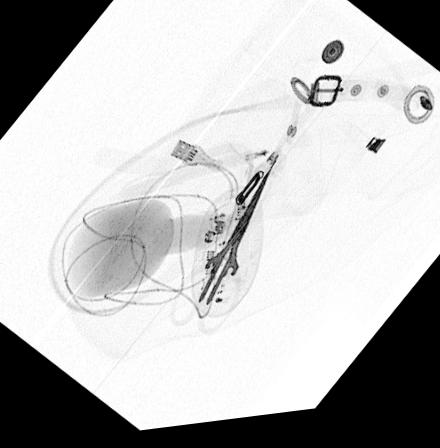Scissors: (166, 155, 280, 342)
